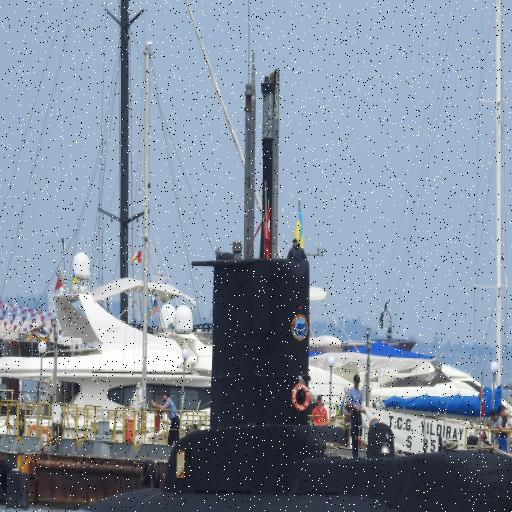submarine: (92, 61, 512, 512)
